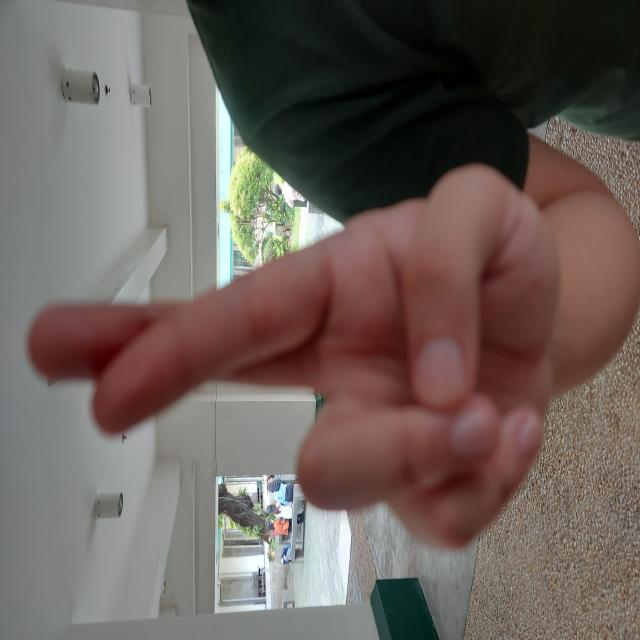R: (87, 22, 474, 564)
